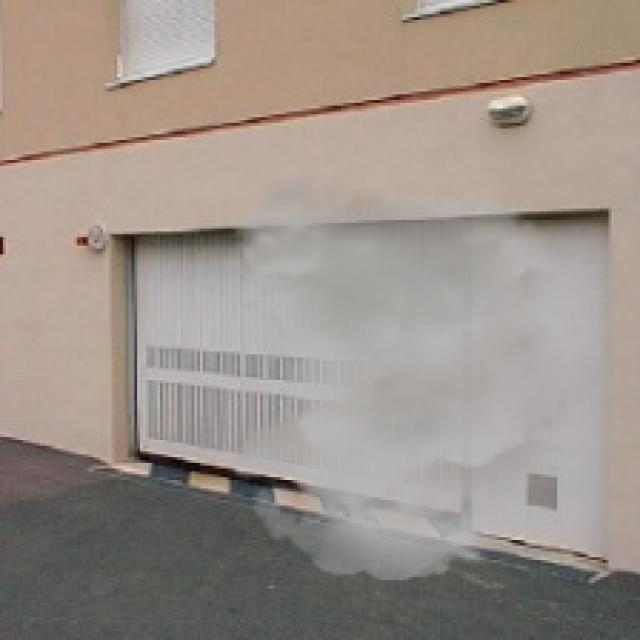Smoke: (219, 171, 632, 580)
